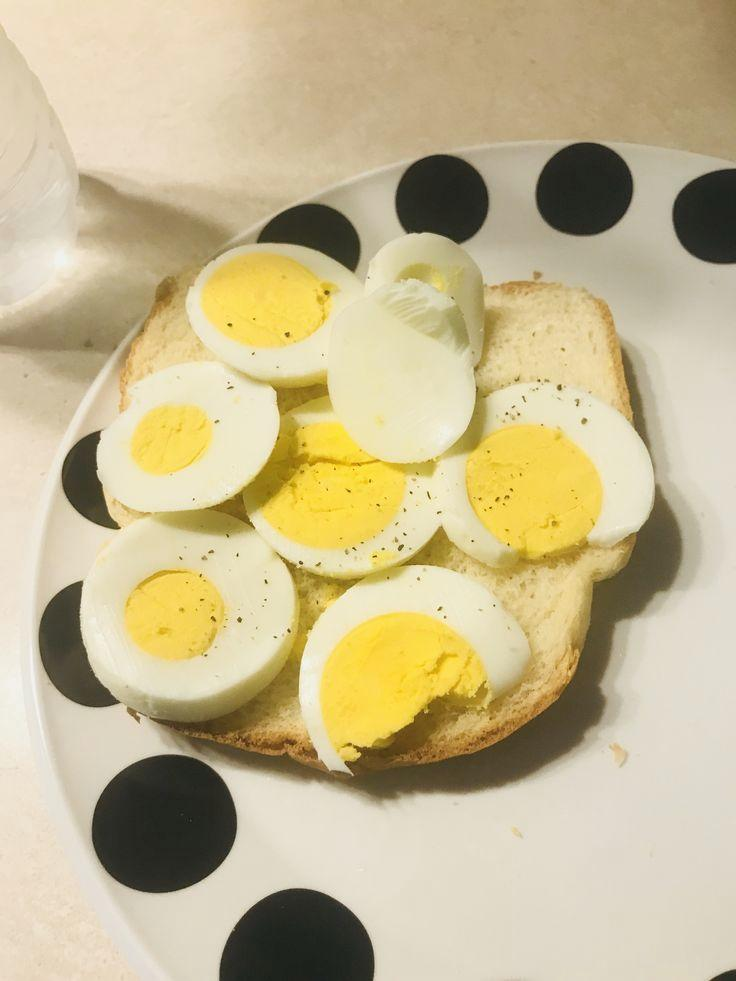eggs: (50, 241, 631, 732)
